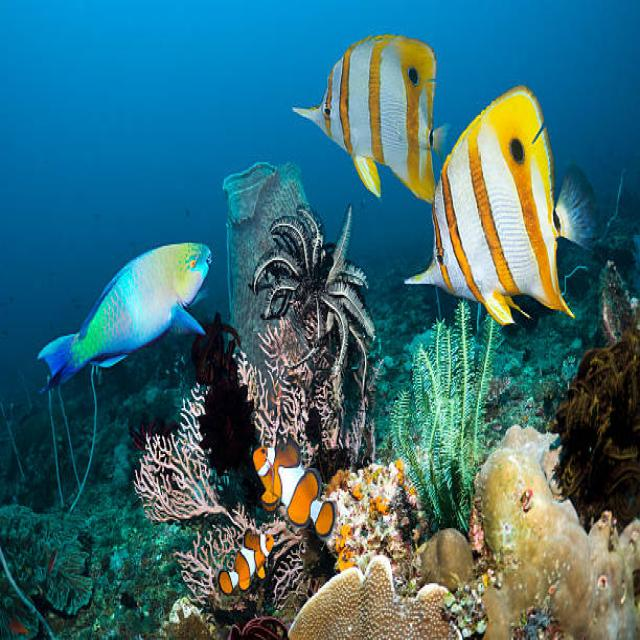ClownFish: (255, 449, 337, 539), (215, 537, 274, 600)
